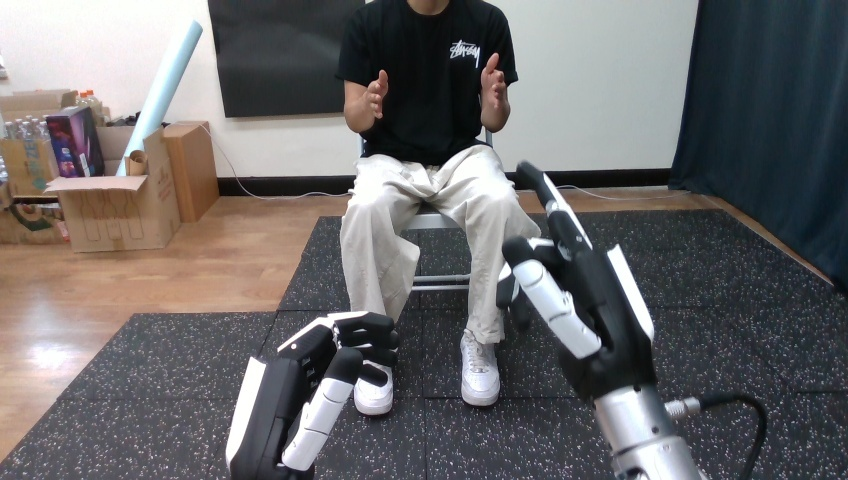left robot hand: (497, 161, 766, 479), (226, 311, 398, 479)
